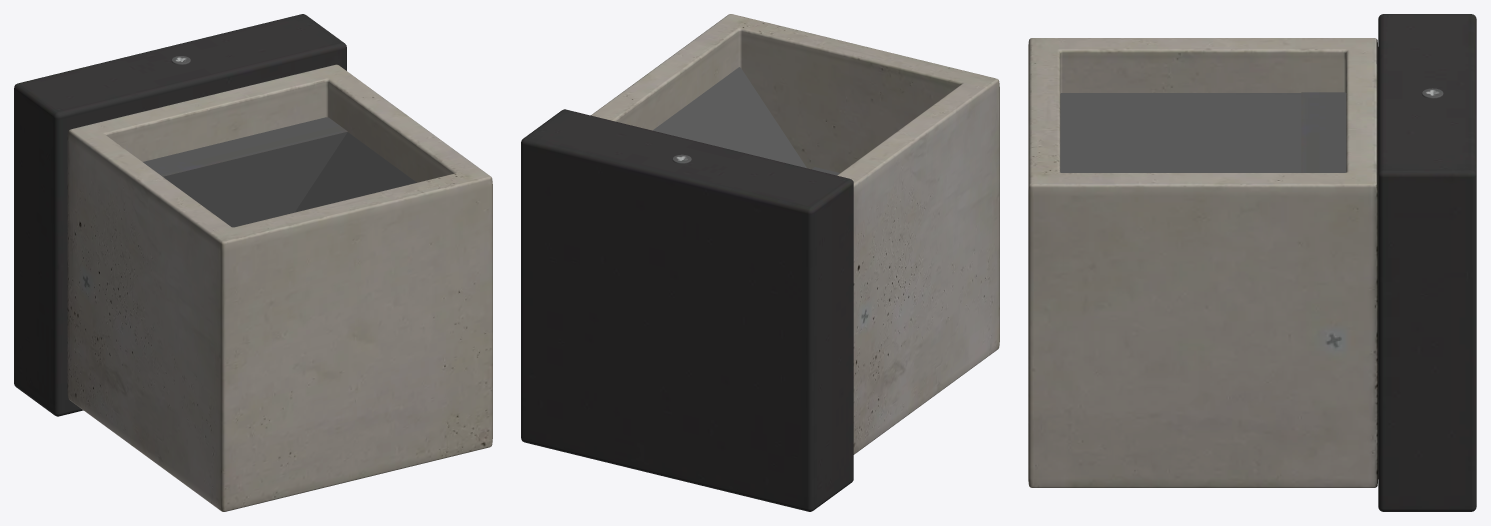
File: abo-B07HKGY4F2.glb
3 views of the same model, side by side, from view 1: azimuth 30°, elevation 25°; view 2: azimuth 150°, elevation 25°; view 3: azimuth 270°, elevation 25° (orthographic). The views are drawn at different scales.
Bounding box in the file's own units: 0.121 × 0.121 × 0.143.
Materials: 1 (1 with a texture image).
